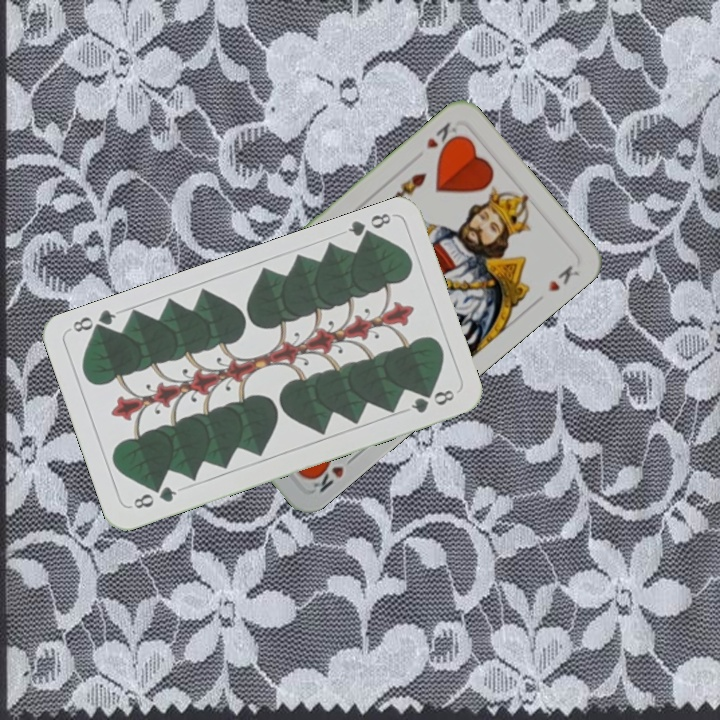G8: (344, 208, 394, 245), (126, 482, 180, 512)
HK: (305, 451, 359, 495), (422, 118, 463, 156)
